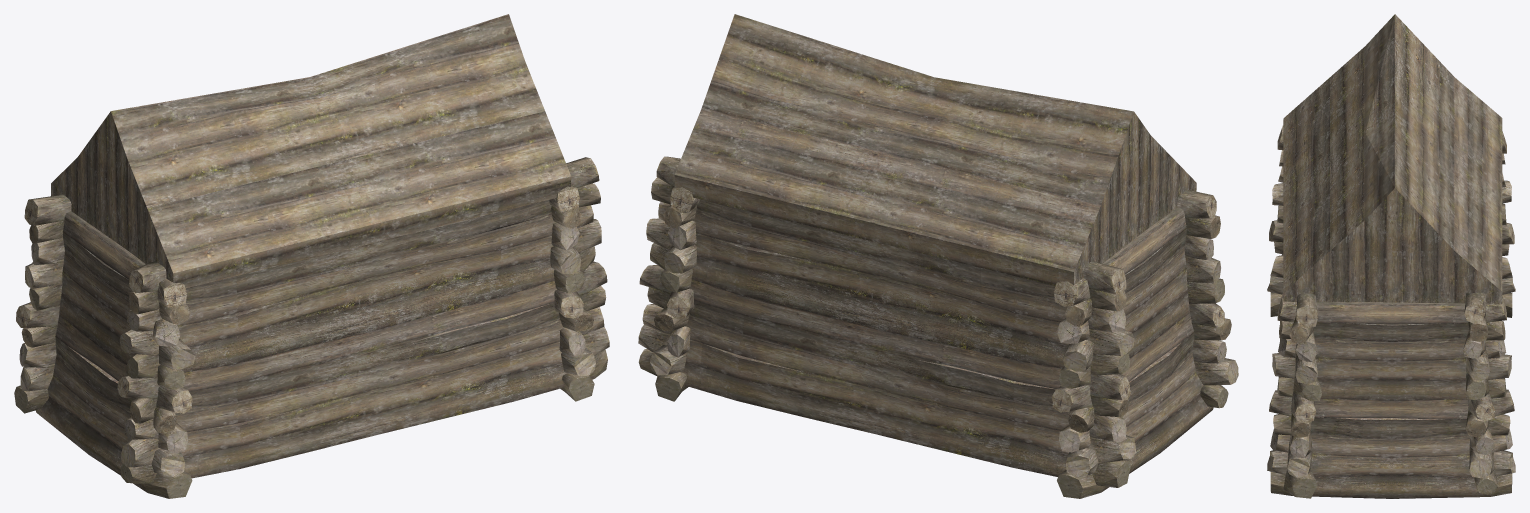
Rendered from bg_atm_loghill_commonhouse06_sm_kdh.FBX.
The picture shows the model from 3 angles, left to right: view 1: azimuth 30°, elevation 25°; view 2: azimuth 150°, elevation 25°; view 3: azimuth 270°, elevation 25°; orthographic projection. The views are drawn at different scales.
Visible parts, largest first — view 1: bg_atm_loghill_commonhouse06_sm_kdh; view 2: bg_atm_loghill_commonhouse06_sm_kdh; view 3: bg_atm_loghill_commonhouse06_sm_kdh.
Boxes of the visible parts, left/top/right/bottom form: bg_atm_loghill_commonhouse06_sm_kdh: left=14, top=14, right=609, bottom=498; bg_atm_loghill_commonhouse06_sm_kdh: left=638, top=14, right=1238, bottom=498; bg_atm_loghill_commonhouse06_sm_kdh: left=1267, top=14, right=1515, bottom=498.
Bounding box in the file's own units: 593 × 393 × 294.
